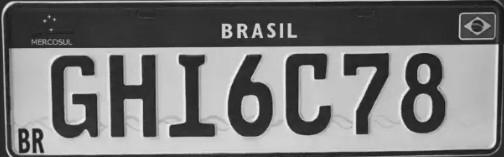placa_mercosul: (0, 2, 503, 154)
